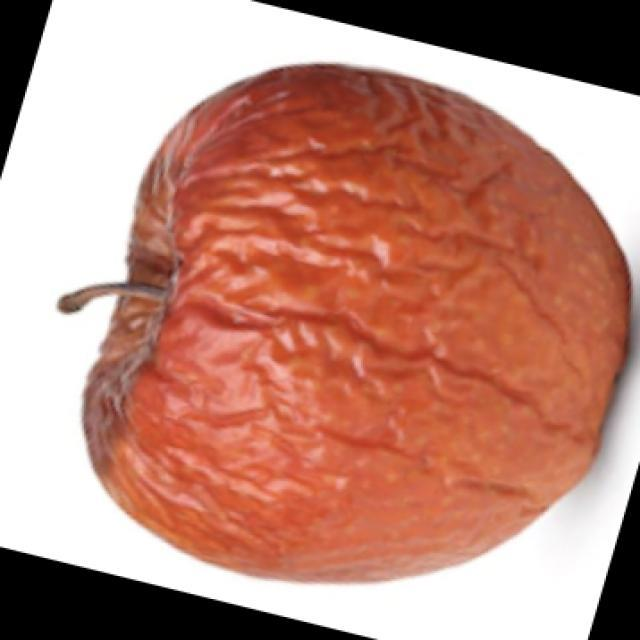Rotten: (137, 70, 620, 563)
